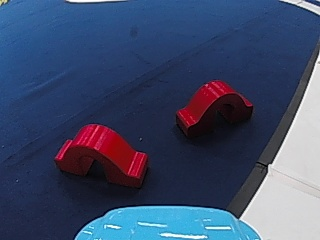bridge: (49, 122, 154, 189), (168, 76, 255, 138)
